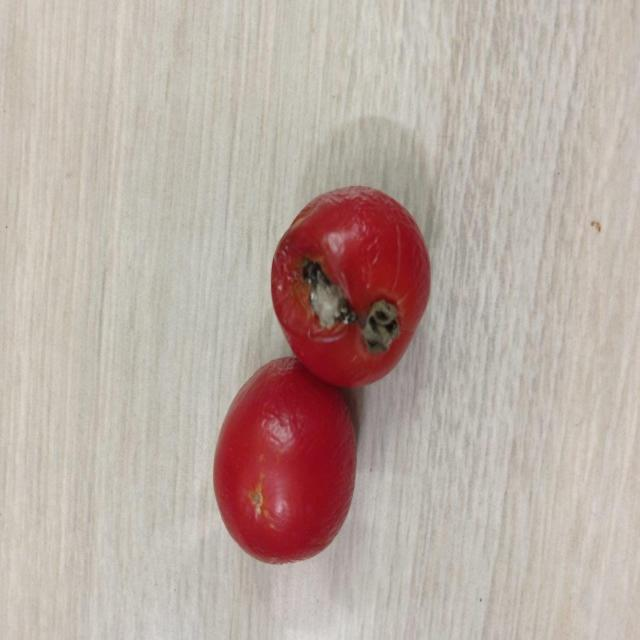Rotten: (269, 170, 430, 392)
